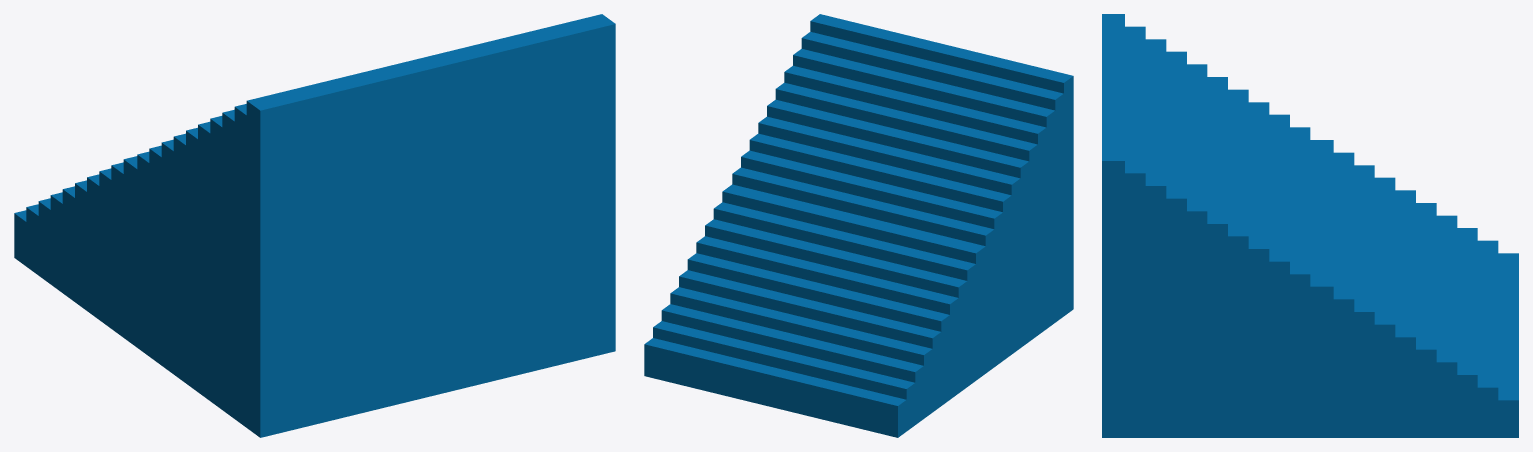
File: M_Stairs_6x4x3.3.fbx
The picture shows the model from 3 angles, left to right: view 1: azimuth 30°, elevation 25°; view 2: azimuth 150°, elevation 25°; view 3: azimuth 270°, elevation 25°; orthographic projection. The views are drawn at different scales.
Visible parts, largest first — view 1: Stairs_6x3_3; view 2: Stairs_6x3_3; view 3: Stairs_6x3_3.
Part boxes in pixels (x1,y1,x2,y2): Stairs_6x3_3: (14,14,615,437); Stairs_6x3_3: (644,14,1073,437); Stairs_6x3_3: (1102,14,1518,437).
Size of the model in its own units: 500 by 440 by 600.
